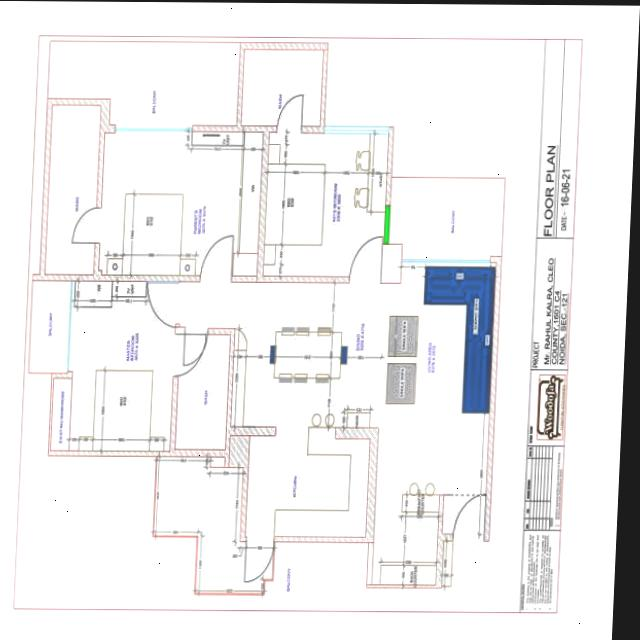room: (372, 257, 496, 588), (98, 131, 263, 275), (51, 276, 178, 455), (262, 127, 388, 280), (228, 275, 350, 433), (48, 41, 241, 126), (154, 456, 273, 593), (246, 434, 370, 539), (45, 102, 101, 276), (390, 176, 504, 259), (175, 331, 230, 451), (241, 48, 325, 126), (30, 279, 70, 374)
